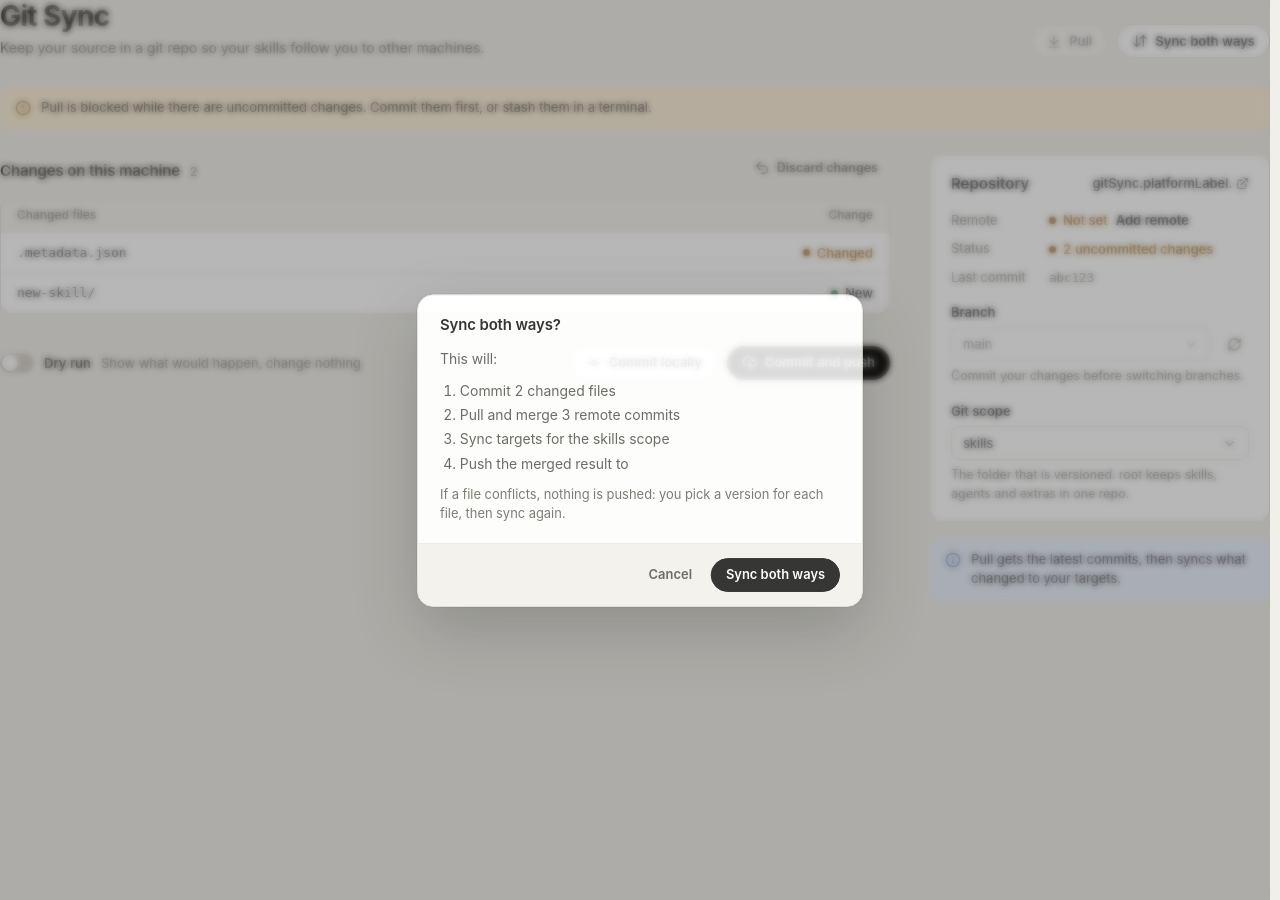
Test: updates from another computer › previews syncing both ways without changing anything
Click the switch named "Dry run" at coordinates (17, 363), box [0,353,34,373]
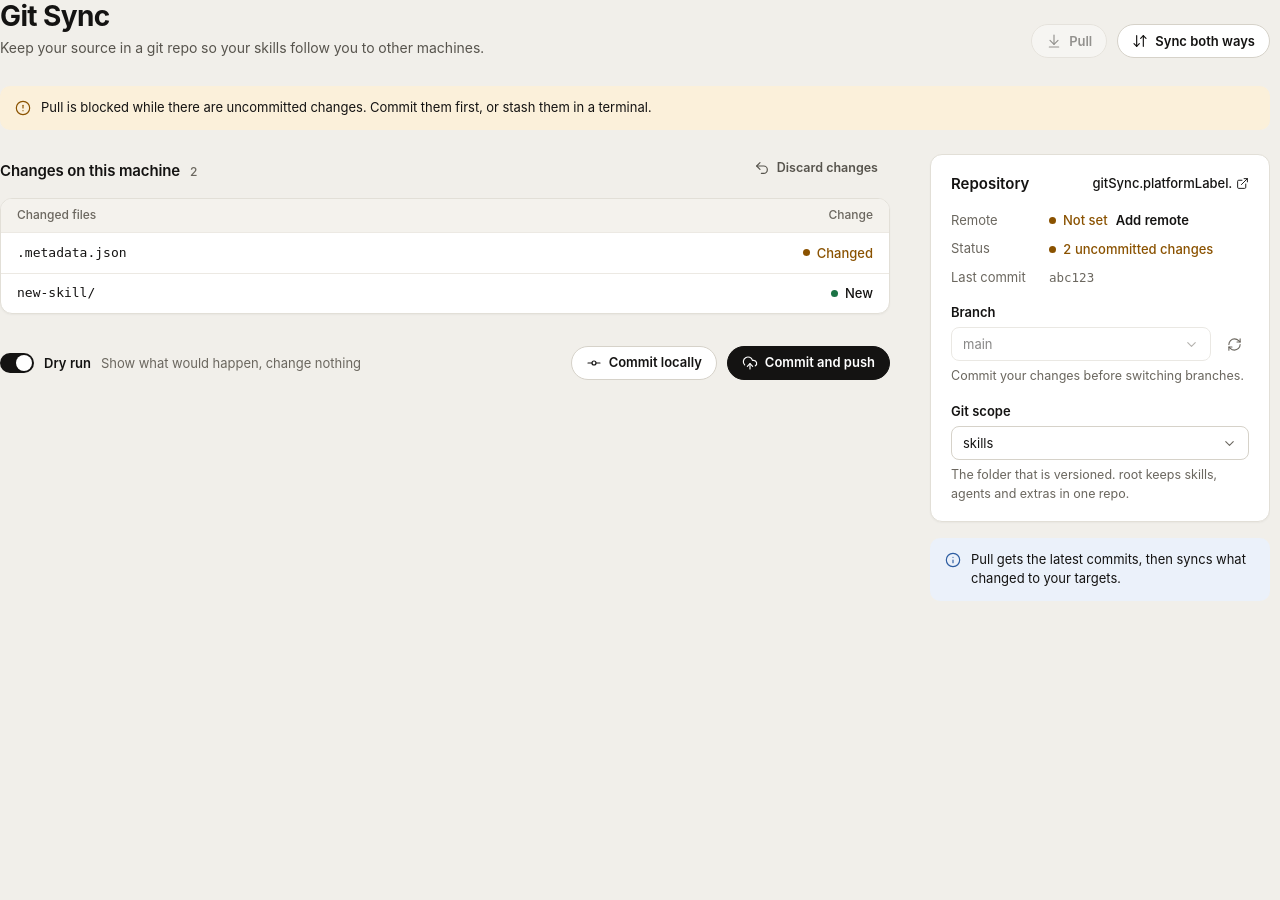
Click the button "Sync both ways" at coordinates (1194, 42), box [1117,24,1270,58]
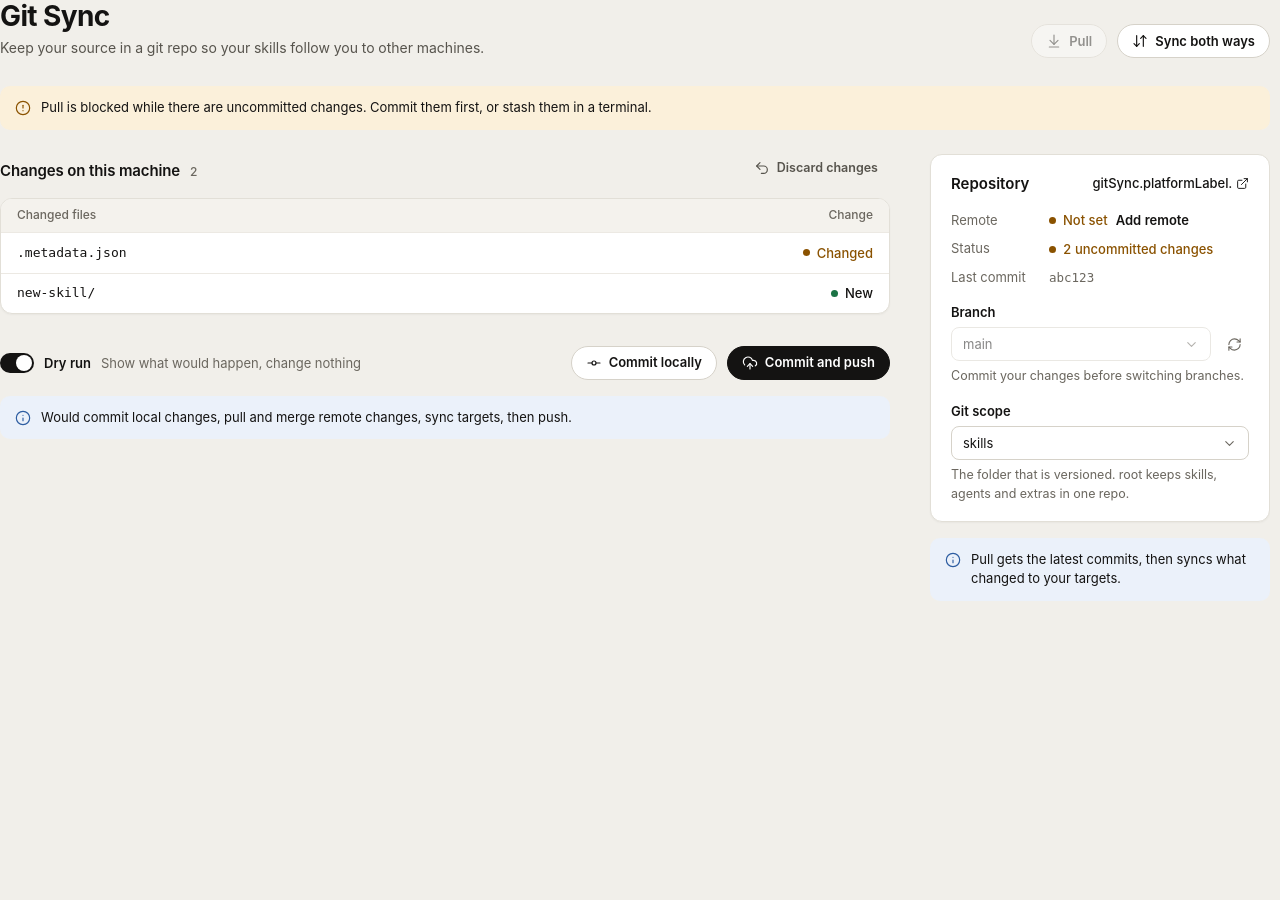
Expected: the text "then push" is shown, [41,409,572,425]
